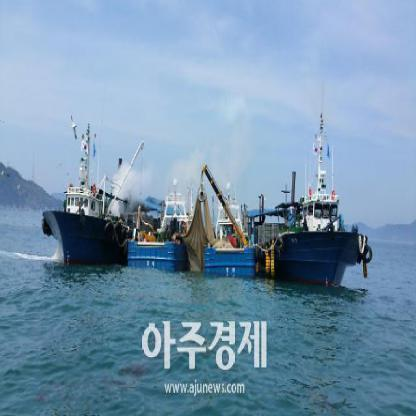Ship: (256, 79, 376, 300), (38, 109, 149, 279)
